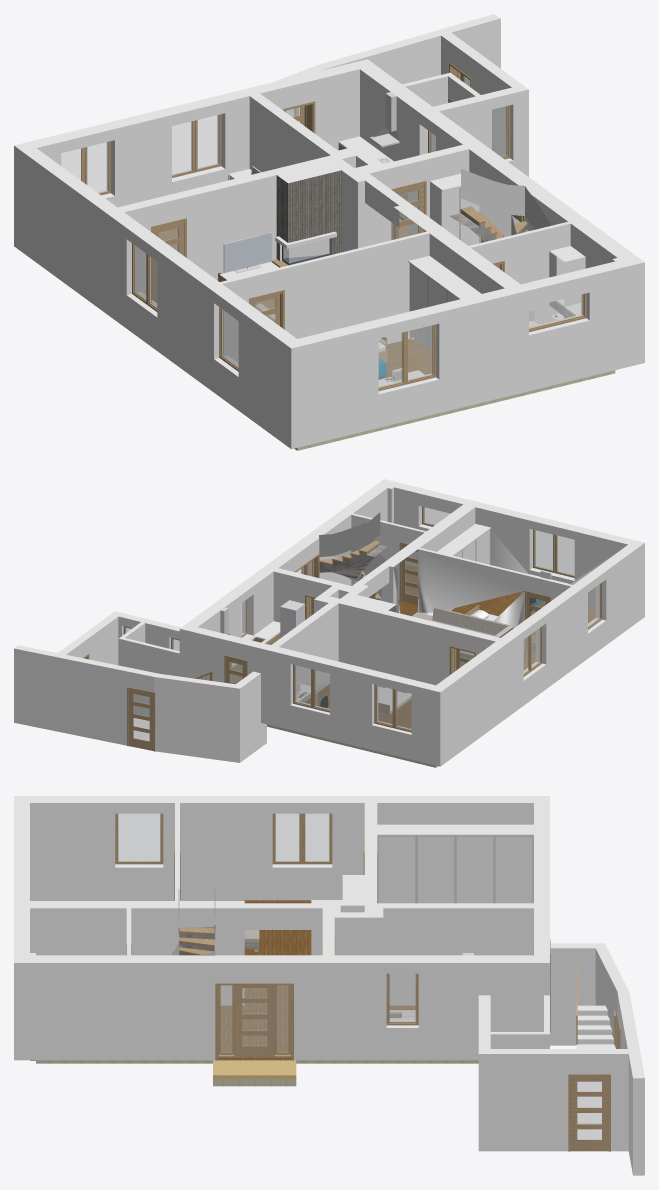
The model's file is Plan by Kyrylo Chuyko - 2oQgfhLT5xH.glb.
3 views of the same model, one above another, from view 1: azimuth 30°, elevation 25°; view 2: azimuth 150°, elevation 25°; view 3: azimuth 270°, elevation 25° (orthographic). The views are drawn at different scales.
Parts seen in each view (by area): view 1: Mesh1 Group1 Model, Mesh49 Group1 Model, Mesh2 Group1 Model; view 2: Mesh1 Group1 Model, Mesh49 Group1 Model, Mesh2 Group1 Model; view 3: Mesh1 Group1 Model, Mesh46 Group1 Model.
Boxes of the visible parts, x1,y1,x2,y2 form: Mesh1 Group1 Model: (14,14,644,450); Mesh49 Group1 Model: (461,168,551,229); Mesh2 Group1 Model: (479,182,516,236); Mesh1 Group1 Model: (14,479,644,767); Mesh49 Group1 Model: (319,522,398,592); Mesh2 Group1 Model: (356,512,381,597); Mesh1 Group1 Model: (14,796,644,1175); Mesh46 Group1 Model: (576,1005,615,1048).
Size of the model in its own units: 585 by 181 by 624.
Materials: 26 (10 with a texture image).
